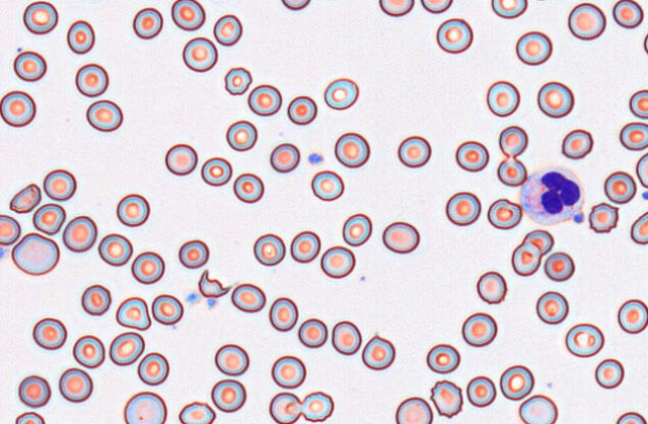GRAN: (521, 165, 587, 226)
PLT: (184, 290, 202, 306), (309, 151, 324, 166), (205, 297, 219, 310), (573, 211, 587, 224), (0, 246, 11, 262), (642, 190, 648, 203)
RBC: (11, 232, 59, 275), (567, 2, 606, 40), (123, 391, 167, 423), (537, 81, 574, 118), (565, 322, 604, 357), (0, 90, 36, 127), (429, 379, 463, 418), (334, 132, 370, 168), (62, 215, 97, 252), (436, 18, 473, 53), (515, 30, 552, 65), (499, 364, 534, 400), (461, 312, 497, 347), (445, 191, 481, 226), (182, 36, 217, 72), (486, 80, 520, 117), (85, 99, 123, 132), (109, 331, 144, 366), (58, 367, 93, 402), (115, 296, 151, 330), (210, 378, 246, 412), (361, 335, 395, 370), (23, 0, 58, 34), (323, 77, 359, 110), (382, 221, 419, 253), (271, 355, 306, 388), (214, 343, 249, 376), (32, 317, 67, 350), (320, 245, 355, 278), (97, 233, 132, 266), (518, 394, 557, 423), (535, 290, 568, 324), (603, 170, 636, 204), (72, 334, 105, 368), (131, 251, 165, 284), (42, 168, 76, 201), (397, 135, 431, 168), (116, 193, 150, 226), (75, 63, 108, 97), (247, 84, 282, 116), (617, 298, 648, 334), (32, 202, 65, 235), (18, 374, 51, 407), (310, 169, 344, 201), (455, 140, 489, 172), (487, 198, 522, 229), (268, 391, 301, 423), (137, 352, 169, 385), (164, 143, 197, 175), (253, 233, 285, 266), (476, 270, 507, 304), (426, 343, 460, 374), (511, 241, 541, 276), (331, 320, 361, 355), (268, 296, 298, 331), (231, 282, 266, 312), (225, 119, 257, 151), (301, 391, 334, 422), (13, 50, 46, 81), (342, 212, 372, 246), (171, 0, 205, 30), (66, 19, 95, 54), (395, 396, 432, 423), (561, 128, 593, 159), (151, 294, 183, 325), (132, 7, 163, 39), (290, 230, 320, 263), (588, 202, 619, 233), (233, 172, 264, 203), (498, 125, 528, 157), (543, 251, 575, 281), (466, 375, 496, 407), (200, 156, 232, 186), (594, 358, 624, 389), (81, 284, 111, 315), (269, 142, 300, 172), (213, 14, 242, 46), (297, 318, 327, 348), (287, 95, 317, 125), (496, 157, 527, 186), (178, 239, 209, 268), (612, 0, 643, 28), (619, 121, 648, 150), (522, 229, 554, 255), (178, 401, 215, 423), (224, 66, 252, 95), (0, 214, 21, 245), (491, 0, 527, 18), (378, 0, 414, 16), (630, 211, 647, 244), (629, 89, 647, 119), (635, 152, 648, 188), (420, 0, 452, 13), (615, 411, 646, 423), (15, 411, 45, 423), (281, 0, 310, 10), (643, 31, 648, 54), (645, 348, 648, 380)
Schistocyte: (197, 269, 234, 299), (8, 183, 41, 214)
